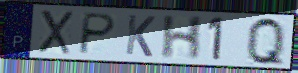1: (206, 16, 224, 62)
H: (159, 15, 206, 61)
K: (124, 13, 158, 59)
P: (76, 11, 119, 56)
Q: (245, 15, 286, 68)
X: (36, 8, 75, 56)
